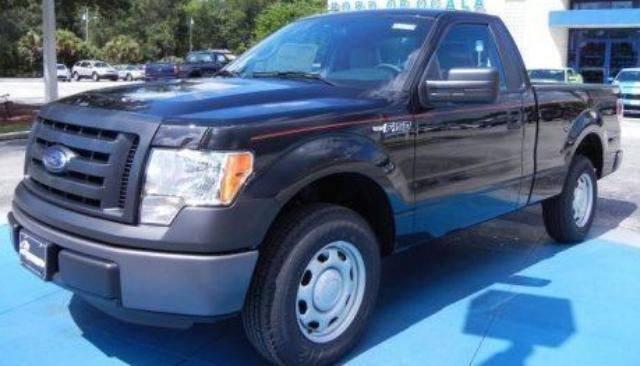pickup-truck: (6, 7, 625, 360)
